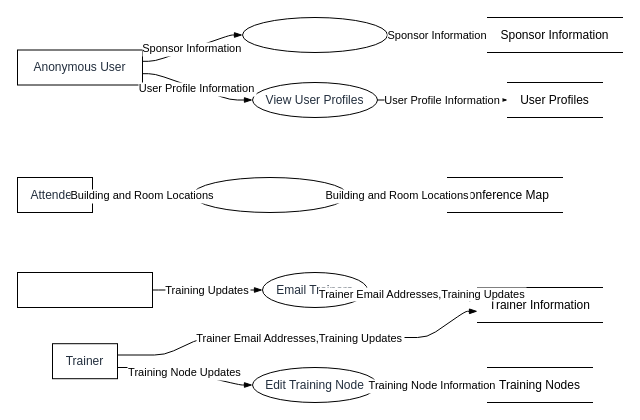
Some shapes in this 640 by 420 pixel diagram are drawn without their labels. The centre of each missing label's shape, as x and y in pixels:
Access Conference Map: the point at 270,194
Training Coordinator: the point at 84,290
View List of Sponsors: the point at 315,34
